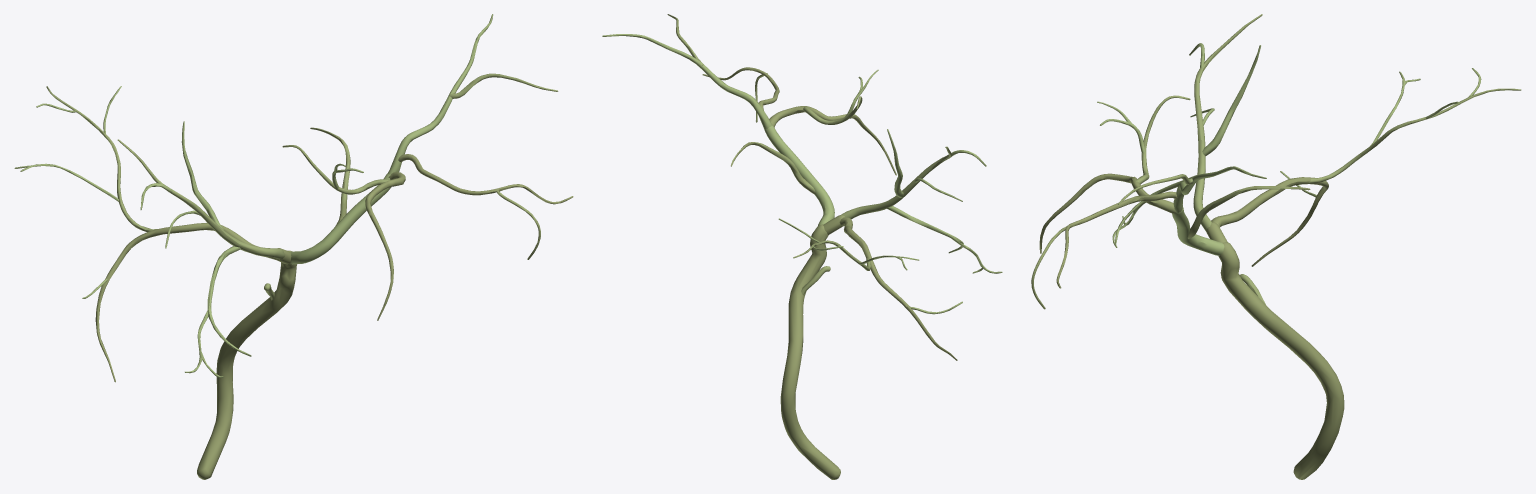
File: biliary-tree.glb
3 renders of one model, left to right at view 1: azimuth 30°, elevation 25°; view 2: azimuth 150°, elevation 25°; view 3: azimuth 270°, elevation 25°, orthographic. The views are drawn at different scales.
Visible parts, largest first — view 1: FJ3079 Common hepatic duct, FJ3072 Anterior inferior tributary of right hepatic biliary , FJ3108 Posterior inferior tributary of right hepatic biliary, FJ3096 Left hepatic duct, FJ3071 Anterior superior tributary of right hepatic biliary , FJ3088 Lateral superior tributary of left hepatic biliary tr, FJ3103 Medial inferior tributary of left hepatic biliary tre, FJ3089 Lateral inferior tributary of left hepatic biliary tr, FJ3090 Lateral superior tributary of left hepatic biliary tr, FJ3109 Posterior superior tributary of right hepatic biliary, FJ3110 Posterior superior tributary of right hepatic biliary; view 2: FJ3079 Common hepatic duct, FJ3072 Anterior inferior tributary of right hepatic biliary , FJ3096 Left hepatic duct, FJ3088 Lateral superior tributary of left hepatic biliary tr, FJ3108 Posterior inferior tributary of right hepatic biliary, FJ3071 Anterior superior tributary of right hepatic biliary , FJ3103 Medial inferior tributary of left hepatic biliary tre, FJ3110 Posterior superior tributary of right hepatic biliary; view 3: FJ3079 Common hepatic duct, FJ3108 Posterior inferior tributary of right hepatic biliary, FJ3071 Anterior superior tributary of right hepatic biliary , FJ3072 Anterior inferior tributary of right hepatic biliary , FJ3103 Medial inferior tributary of left hepatic biliary tre, FJ3089 Lateral inferior tributary of left hepatic biliary tr, FJ3109 Posterior superior tributary of right hepatic biliary, FJ3096 Left hepatic duct, FJ3090 Lateral superior tributary of left hepatic biliary tr, FJ3088 Lateral superior tributary of left hepatic biliary tr, FJ3110 Posterior superior tributary of right hepatic biliary, FJ3094 Left duct of caudate lobe of liver.
Boxes of the visible parts, bbox=[...] form: FJ3079 Common hepatic duct: bbox=[197, 250, 296, 479]; FJ3072 Anterior inferior tributary of right hepatic biliary : bbox=[140, 121, 251, 377]; FJ3108 Posterior inferior tributary of right hepatic biliary: bbox=[95, 223, 275, 382]; FJ3096 Left hepatic duct: bbox=[290, 173, 391, 264]; FJ3071 Anterior superior tributary of right hepatic biliary : bbox=[117, 139, 284, 259]; FJ3088 Lateral superior tributary of left hepatic biliary tr: bbox=[388, 14, 493, 174]; FJ3103 Medial inferior tributary of left hepatic biliary tre: bbox=[365, 172, 405, 320]; FJ3089 Lateral inferior tributary of left hepatic biliary tr: bbox=[398, 154, 573, 204]; FJ3090 Lateral superior tributary of left hepatic biliary tr: bbox=[449, 73, 558, 259]; FJ3109 Posterior superior tributary of right hepatic biliary: bbox=[46, 86, 156, 231]; FJ3110 Posterior superior tributary of right hepatic biliary: bbox=[14, 86, 121, 298]; FJ3079 Common hepatic duct: bbox=[780, 224, 840, 479]; FJ3072 Anterior inferior tributary of right hepatic biliary : bbox=[886, 129, 1002, 273]; FJ3096 Left hepatic duct: bbox=[764, 125, 834, 225]; FJ3088 Lateral superior tributary of left hepatic biliary tr: bbox=[602, 34, 772, 129]; FJ3108 Posterior inferior tributary of right hepatic biliary: bbox=[839, 217, 957, 360]; FJ3071 Anterior superior tributary of right hepatic biliary : bbox=[841, 146, 952, 219]; FJ3103 Medial inferior tributary of left hepatic biliary tre: bbox=[769, 106, 896, 175]; FJ3110 Posterior superior tributary of right hepatic biliary: bbox=[778, 218, 962, 314]; FJ3079 Common hepatic duct: bbox=[1218, 241, 1344, 479]; FJ3108 Posterior inferior tributary of right hepatic biliary: bbox=[1211, 177, 1328, 266]; FJ3071 Anterior superior tributary of right hepatic biliary : bbox=[1193, 14, 1262, 231]; FJ3072 Anterior inferior tributary of right hepatic biliary : bbox=[1112, 43, 1260, 247]; FJ3103 Medial inferior tributary of left hepatic biliary tre: bbox=[1039, 173, 1176, 253]; FJ3089 Lateral inferior tributary of left hepatic biliary tr: bbox=[1056, 191, 1177, 288]; FJ3109 Posterior superior tributary of right hepatic biliary: bbox=[1308, 88, 1521, 183]; FJ3096 Left hepatic duct: bbox=[1172, 207, 1224, 255]; FJ3090 Lateral superior tributary of left hepatic biliary tr: bbox=[1031, 174, 1193, 309]; FJ3088 Lateral superior tributary of left hepatic biliary tr: bbox=[1173, 166, 1266, 215]; FJ3110 Posterior superior tributary of right hepatic biliary: bbox=[1280, 68, 1481, 197]; FJ3094 Left duct of caudate lobe of liver: bbox=[1188, 186, 1310, 239].
Bounding box in the file's own units: 0.1495 × 0.1429 × 0.1428.
